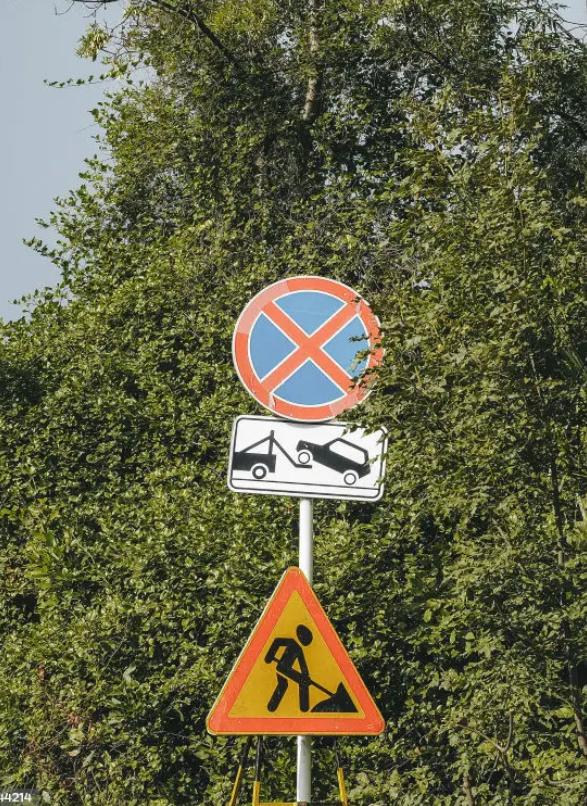obstructed_road_sign: (231, 276, 384, 422), (230, 418, 387, 501)
road_sign: (207, 569, 383, 734)
